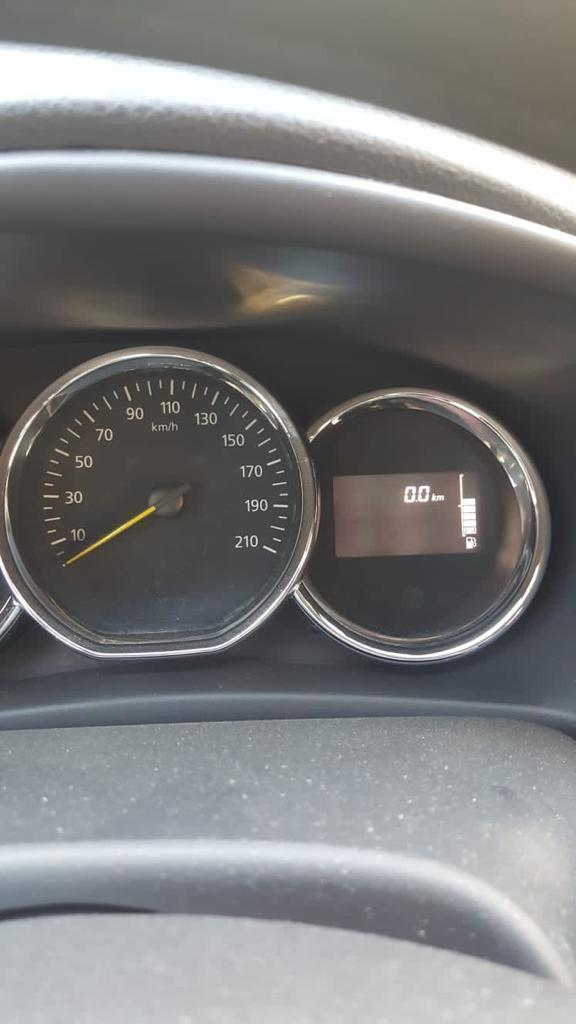,: (415, 499, 418, 504)
0: (404, 484, 415, 502), (418, 485, 429, 502)
X: (431, 492, 436, 502), (437, 494, 444, 501)
odometer: (330, 472, 485, 559)
